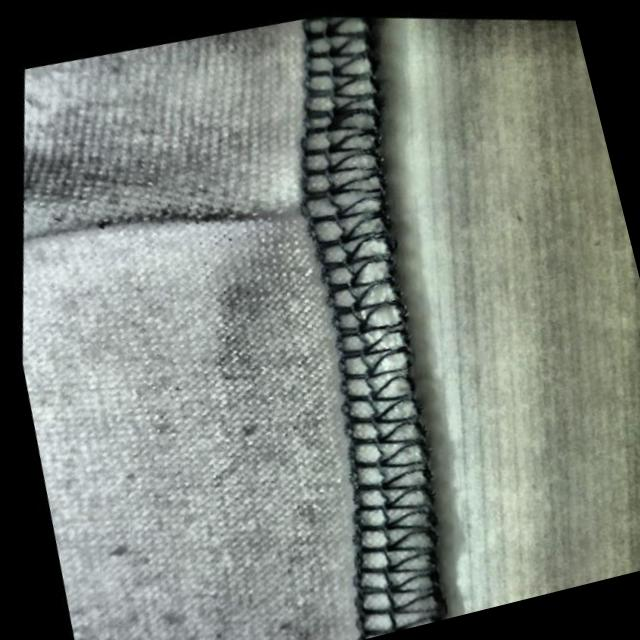seam: (205, 0, 520, 638), (4, 174, 272, 284)
